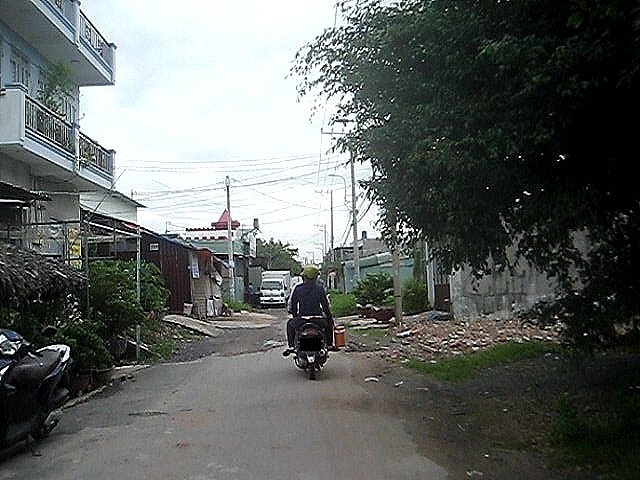hole: (259, 338, 285, 348)
